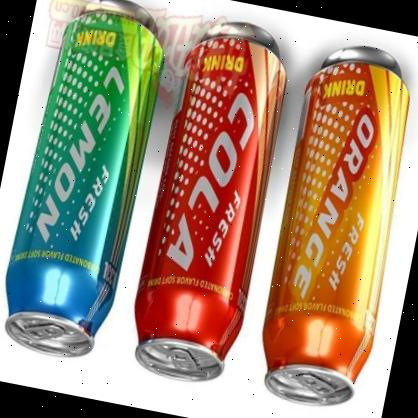can: (121, 14, 306, 396), (0, 0, 181, 370), (244, 34, 418, 418)
